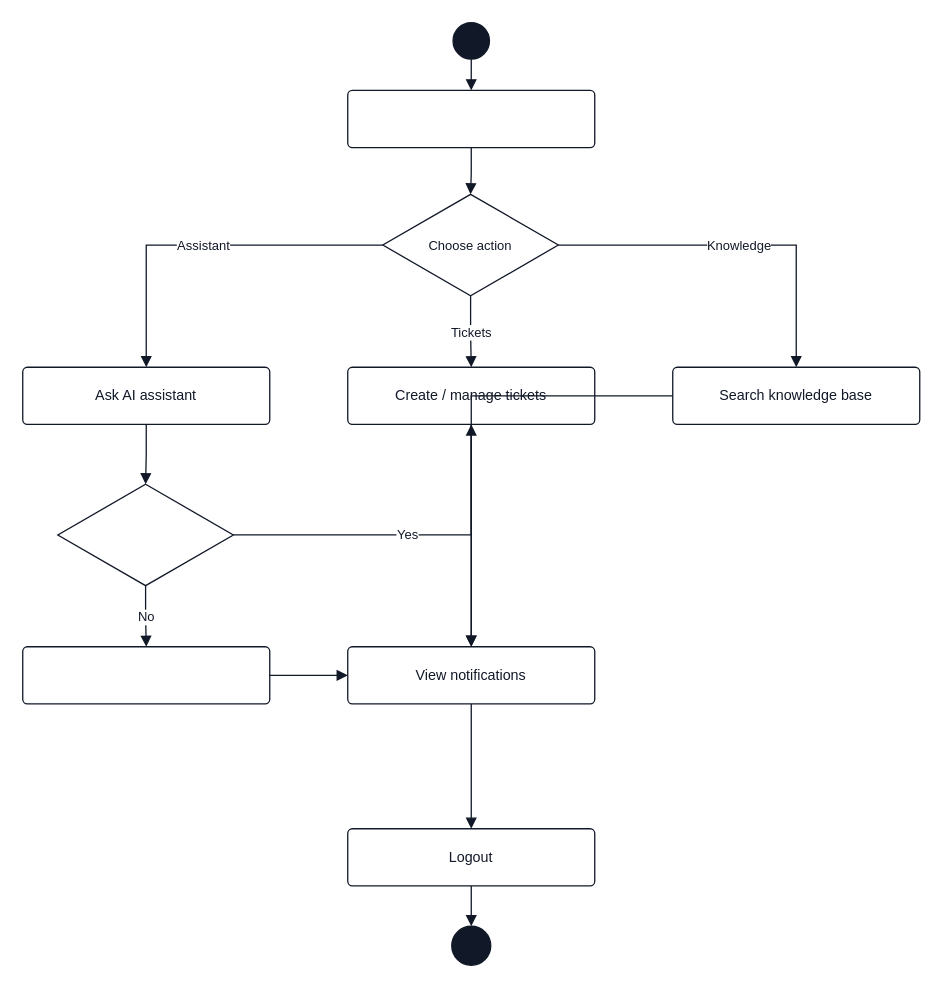
The diagram is 942 pixels wide and 988 high, and some of its shapes have lost their labels. Here are the shapes that lost their labels. From the top down, the centre of each, then its label:
the point at 470,118: Open student dashboard
the point at 145,534: Need escalation?
the point at 145,674: Return assistant answer
